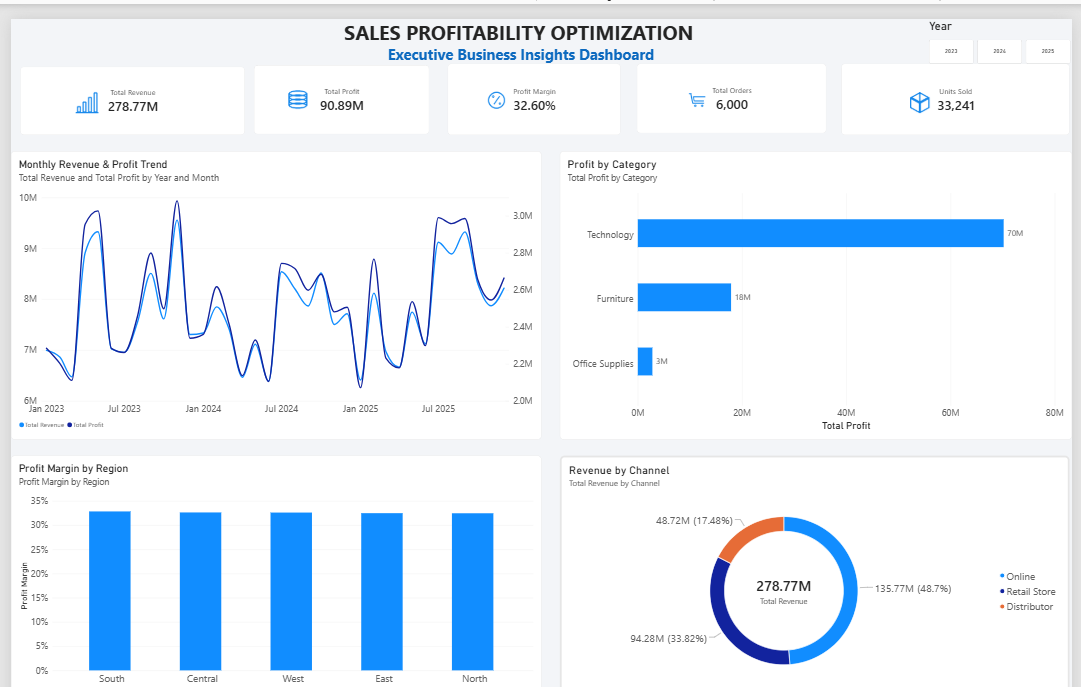

What the dashboard file says about the page in this screenshot:
{"tool":"powerbi","page":{"name":"Executive Business Insights Dashboar","canvas":[2300,1500],"ordinal":0},"visuals":[{"type":"cardVisual","fields":{"Data":["sales_profitability.Total Revenue"]},"box":[19.4,103.2,487.1,148.4],"z":0},{"type":"cardVisual","fields":{"Data":["sales_profitability.Total Profit"]},"box":[525,100,380,150],"z":1000},{"type":"cardVisual","fields":{"Data":["sales_profitability.Profit Margin"]},"box":[945,95,375,155],"z":2000},{"type":"cardVisual","fields":{"Data":["sales_profitability.Total Orders"]},"box":[1356.7,96.7,412,152],"z":3000},{"type":"cardVisual","fields":{"Data":["sales_profitability.Units Sold"]},"box":[1800,95,495,155],"z":4000},{"type":"lineChart","title":"Monthly Revenue & Profit Trend","fields":{"Category":["sales_profitability.Order_Date.Variation.Date Hierarchy.Year","sales_profitability.Order_Date.Variation.Date Hierarchy.Month"],"Y":["sales_profitability.Total Revenue"],"Y2":["sales_profitability.Total Profit"]},"box":[0,285,1150,625],"z":5000},{"type":"clusteredBarChart","title":"Profit by Category","fields":{"Category":["sales_profitability.Category"],"Y":["sales_profitability.Total Profit"]},"box":[1190,285,1110,625],"z":6000},{"type":"clusteredColumnChart","title":"Profit Margin by Region","fields":{"Category":["sales_profitability.Region"],"Y":["sales_profitability.Profit Margin"]},"box":[0,945,1150,520],"z":7000},{"type":"donutChart","title":"Revenue by Channel","fields":{"Category":["sales_profitability.Channel"],"Y":["sales_profitability.Total Revenue"]},"box":[1190,945,1105,520],"z":8000},{"type":"textbox","box":[112.9,0,1974.2,71],"z":9000},{"type":"textbox","box":[816,52,672,44],"z":10000},{"type":"advancedSlicerVisual","fields":{"Values":["sales_profitability.Year"]},"box":[1990.3,0,309.7,96.8],"z":11000},{"type":"image","box":[114.4,148.9,101.1,60],"z":12000},{"type":"image","box":[583.3,141.1,76.7,70],"z":13000},{"type":"image","box":[1016.7,148.9,71.1,52.2],"z":14000},{"type":"image","box":[1920,148.9,100,62.2],"z":15000},{"type":"image","box":[1458.9,151.1,56.7,51.1],"z":16000}]}

Visuals, with their boxes in screenshot pixels (x1, y1, x2, y2), scaled from the page's 2300x1500 canvas onto the 1081x687 screenshot:
cardVisual - sales_profitability.Total Revenue: rect(9, 47, 238, 115)
cardVisual - sales_profitability.Total Profit: rect(247, 46, 425, 114)
cardVisual - sales_profitability.Profit Margin: rect(444, 44, 620, 114)
cardVisual - sales_profitability.Total Orders: rect(638, 44, 831, 114)
cardVisual - sales_profitability.Units Sold: rect(846, 44, 1079, 114)
"Monthly Revenue & Profit Trend" lineChart: rect(0, 131, 540, 417)
"Profit by Category" clusteredBarChart: rect(559, 131, 1080, 417)
"Profit Margin by Region" clusteredColumnChart: rect(0, 433, 540, 671)
"Revenue by Channel" donutChart: rect(559, 433, 1079, 671)
textbox: rect(53, 0, 981, 33)
textbox: rect(384, 24, 699, 44)
advancedSlicerVisual - sales_profitability.Year: rect(935, 0, 1080, 44)
image: rect(54, 68, 101, 96)
image: rect(274, 65, 310, 97)
image: rect(478, 68, 511, 92)
image: rect(902, 68, 949, 97)
image: rect(686, 69, 712, 93)
